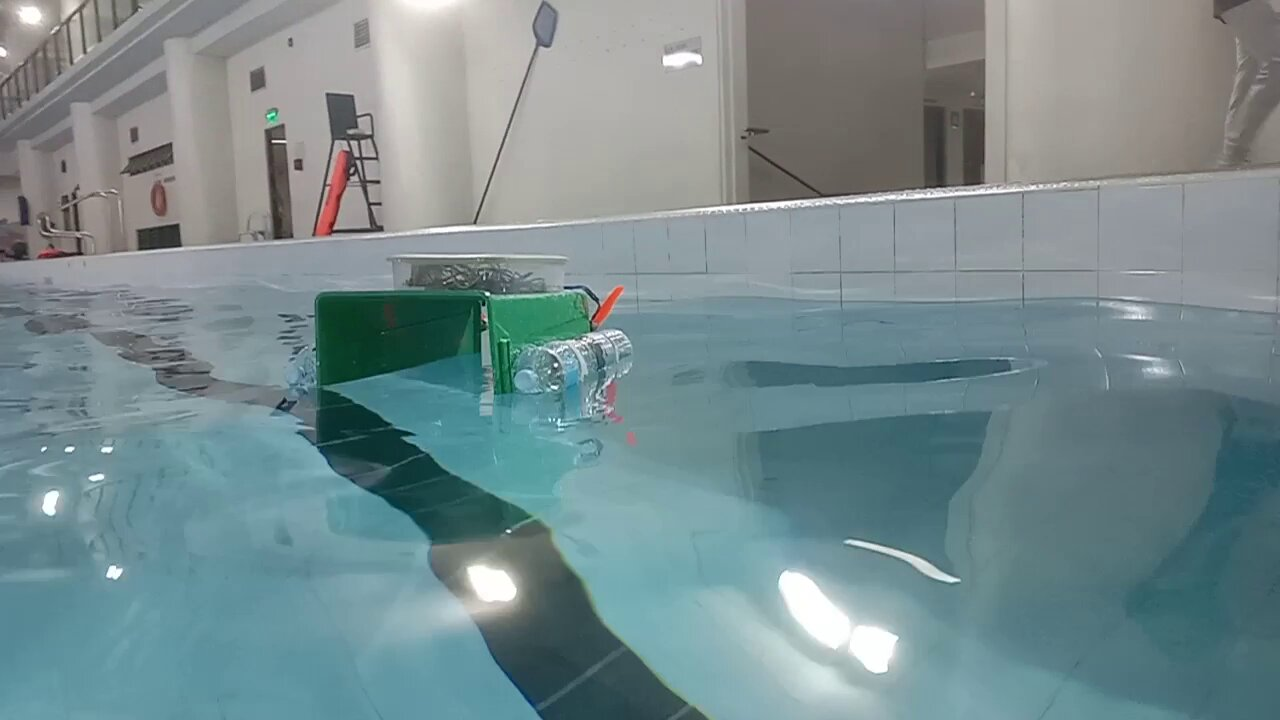drone: (280, 251, 635, 401)
